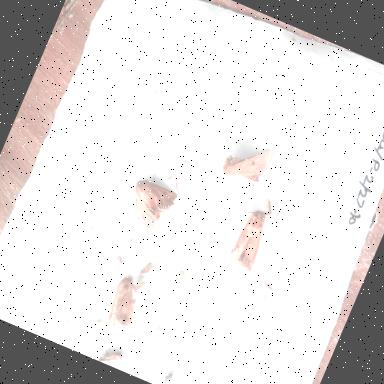abw: (115, 163, 190, 243), (219, 190, 283, 280), (94, 265, 156, 343), (212, 130, 280, 196)
